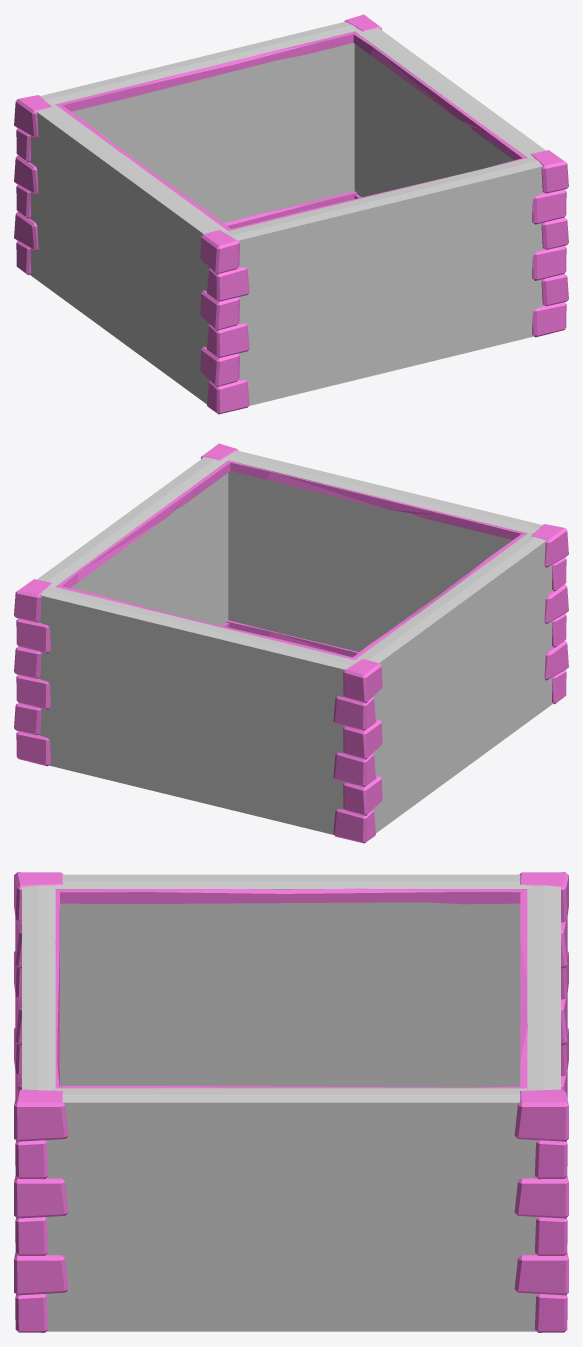
Rendered from SM_Tower_Square_6m_Blank_Fantasy.fbx.
The picture shows the model from 3 angles, top to bottom: view 1: azimuth 30°, elevation 25°; view 2: azimuth 150°, elevation 25°; view 3: azimuth 270°, elevation 25°; orthographic projection. The views are drawn at different scales.
Visible parts, largest first — view 1: SM_Tower_Square_6m_Blank_Fantasy; view 2: SM_Tower_Square_6m_Blank_Fantasy; view 3: SM_Tower_Square_6m_Blank_Fantasy.
Boxes of the visible parts, x1,y1,x2,y2 form: SM_Tower_Square_6m_Blank_Fantasy: (14, 14, 568, 414); SM_Tower_Square_6m_Blank_Fantasy: (14, 443, 568, 843); SM_Tower_Square_6m_Blank_Fantasy: (14, 872, 568, 1332).
Size of the model in its own units: 6.61 by 3.05 by 6.59.
